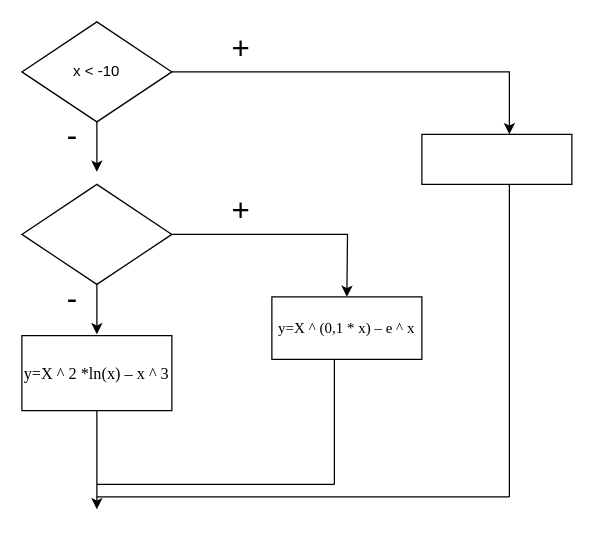
Some shapes in this 594 by 541 pixel diagram are drawn without their labels. Each missing label, with the centre of its shape:
"x <= -4" goes at (96,233).
"y =E ^ x*e ^ x – sin(x)/ x^ 3" goes at (496,158).
